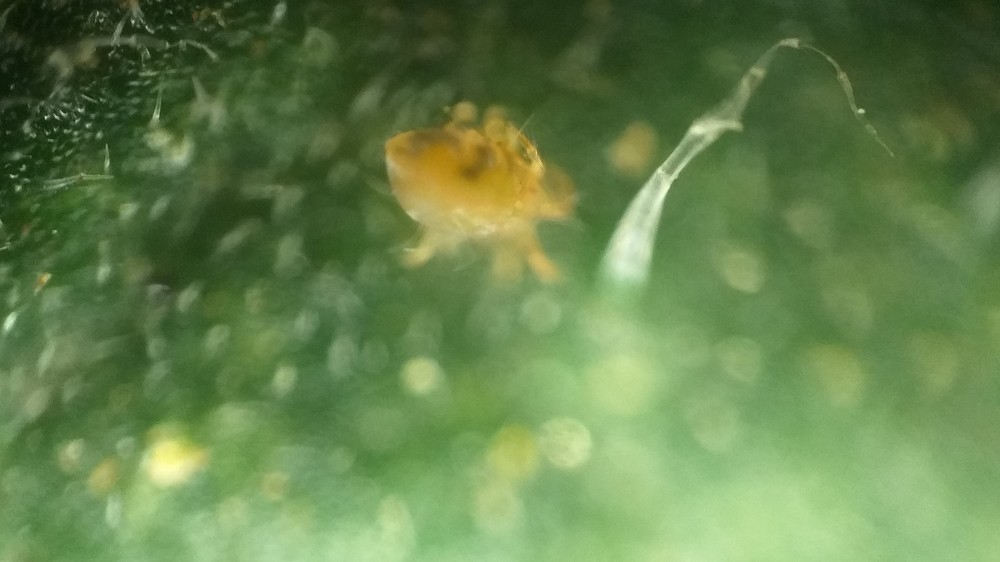Aracnido Rojo: (324, 80, 627, 330)
